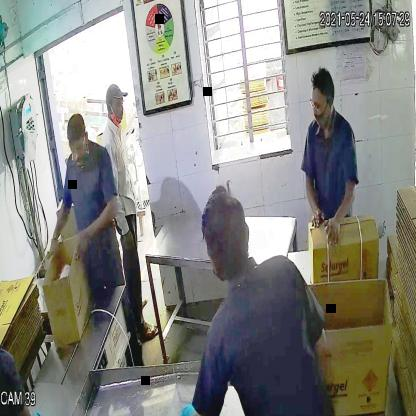goggles: (66, 133, 88, 159), (309, 93, 332, 114)
